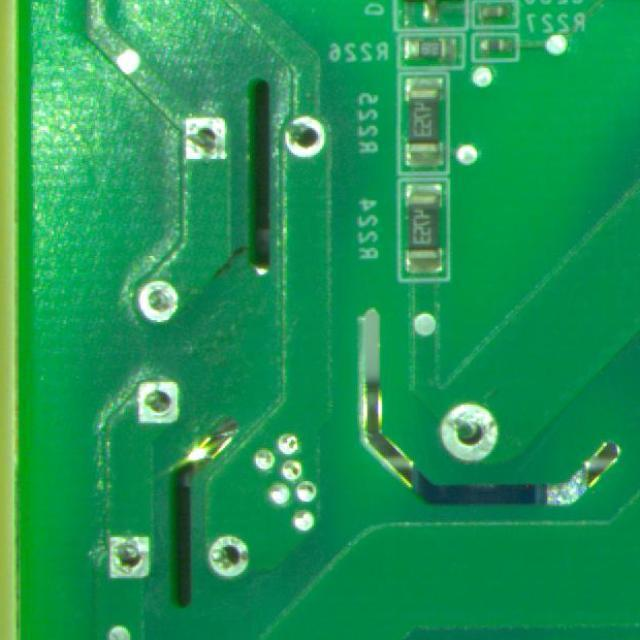Insufficient solder: (426, 390, 509, 468), (120, 259, 188, 337), (131, 360, 197, 438), (90, 524, 168, 586), (169, 100, 229, 166), (278, 118, 326, 158), (208, 532, 253, 570)
